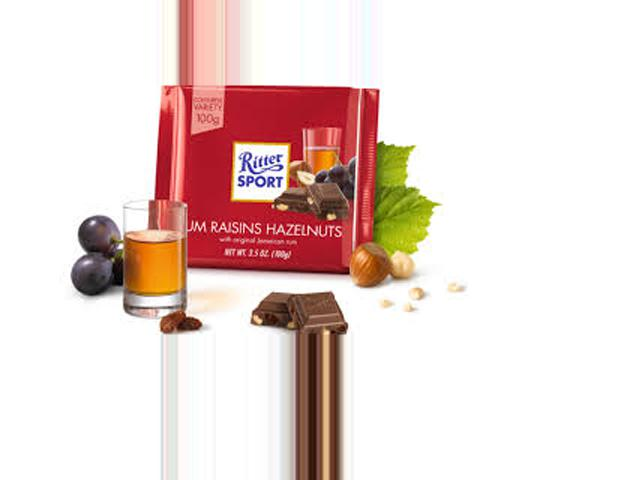chocolate: (158, 86, 384, 272)
